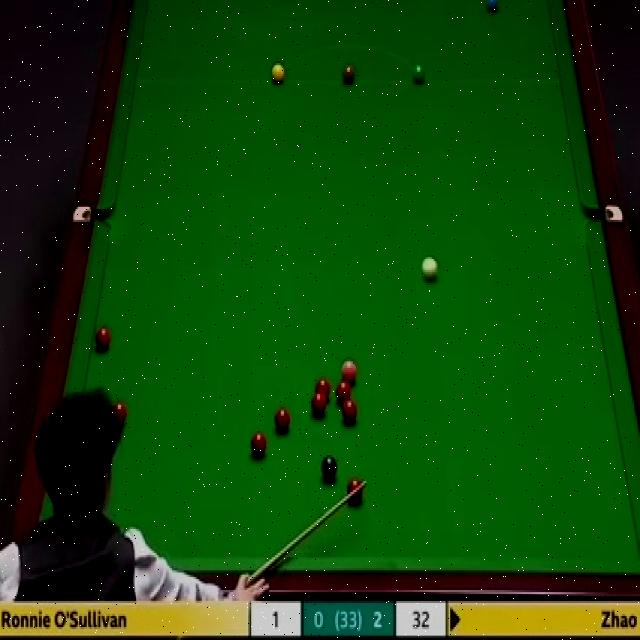black-ball: (321, 453, 339, 484)
blue-ball: (483, 0, 501, 15)
brown-ball: (342, 64, 356, 86)
green-ball: (412, 64, 426, 86)
pink-ball: (338, 358, 358, 384)
red-ball: (108, 397, 128, 430), (250, 432, 268, 462), (347, 479, 366, 505), (274, 406, 291, 432), (94, 325, 110, 352), (310, 393, 327, 418), (342, 398, 358, 423), (314, 378, 332, 400), (335, 381, 352, 403)
white-ball: (418, 252, 438, 284)
yellow-ball: (271, 62, 286, 86)
